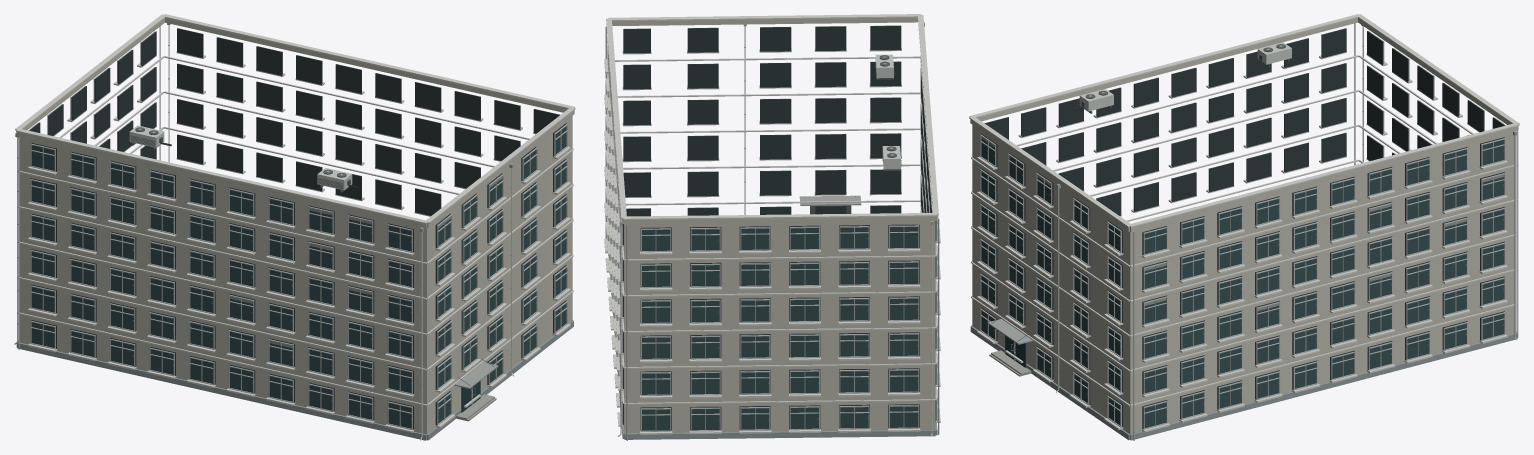
Rendered from osm_way_223859814.glb.
3 views of the same model, side by side, from view 1: azimuth 30°, elevation 25°; view 2: azimuth 150°, elevation 25°; view 3: azimuth 270°, elevation 25° (orthographic). The views are drawn at different scales.
Parts seen in each view (by area): view 1: Windows and facade details | osm_way_223859814, Architecture | osm_way_223859814, Roof services | osm_way_223859814, EXTERIOR::osm_way_223859814::rainwater and roof service deta, EXTERIOR::osm_way_223859814::inferred entry doors canopy and, EXTERIOR::osm_way_223859814::native pane seals and hardware; view 2: Windows and facade details | osm_way_223859814, Architecture | osm_way_223859814, Roof services | osm_way_223859814, EXTERIOR::osm_way_223859814::rainwater and roof service deta, EXTERIOR::osm_way_223859814::inferred entry doors canopy and; view 3: Windows and facade details | osm_way_223859814, Architecture | osm_way_223859814, Roof services | osm_way_223859814, EXTERIOR::osm_way_223859814::rainwater and roof service deta, EXTERIOR::osm_way_223859814::inferred entry doors canopy and, EXTERIOR::osm_way_223859814::native pane seals and hardware.
Part boxes in pixels (bbox=[...]): Windows and facade details | osm_way_223859814: bbox=[18, 26, 570, 432]; Architecture | osm_way_223859814: bbox=[16, 18, 574, 440]; Roof services | osm_way_223859814: bbox=[15, 14, 575, 223]; EXTERIOR::osm_way_223859814::rainwater and roof service deta: bbox=[14, 23, 514, 440]; EXTERIOR::osm_way_223859814::inferred entry doors canopy and: bbox=[454, 358, 498, 421]; EXTERIOR::osm_way_223859814::native pane seals and hardware: bbox=[53, 136, 566, 419]; Windows and facade details | osm_way_223859814: bbox=[604, 25, 940, 440]; Architecture | osm_way_223859814: bbox=[608, 17, 937, 439]; Roof services | osm_way_223859814: bbox=[606, 14, 938, 219]; EXTERIOR::osm_way_223859814::rainwater and roof service deta: bbox=[617, 22, 933, 436]; EXTERIOR::osm_way_223859814::inferred entry doors canopy and: bbox=[799, 195, 861, 214]; Windows and facade details | osm_way_223859814: bbox=[977, 23, 1518, 440]; Architecture | osm_way_223859814: bbox=[970, 18, 1518, 440]; Roof services | osm_way_223859814: bbox=[969, 14, 1519, 227]; EXTERIOR::osm_way_223859814::rainwater and roof service deta: bbox=[1056, 24, 1516, 392]; EXTERIOR::osm_way_223859814::inferred entry doors canopy and: bbox=[987, 315, 1032, 376]; EXTERIOR::osm_way_223859814::native pane seals and hardware: bbox=[981, 136, 1504, 416].
Size of the model in its own units: 41.92 by 20.58 by 45.89.
